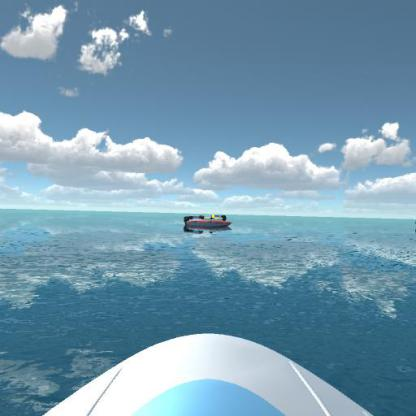usv2: (201, 209, 231, 225)
usv3: (182, 212, 235, 236)
